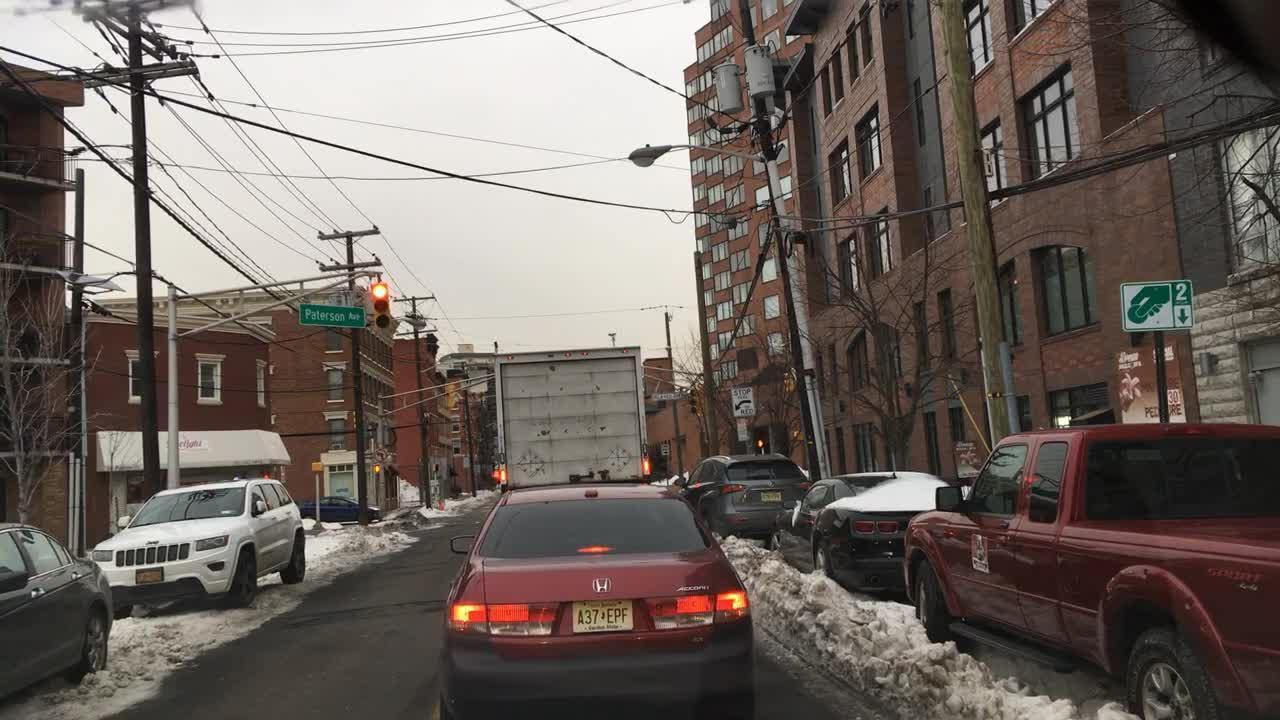Honda: (589, 573, 621, 602)
jeep: (139, 537, 162, 548)
